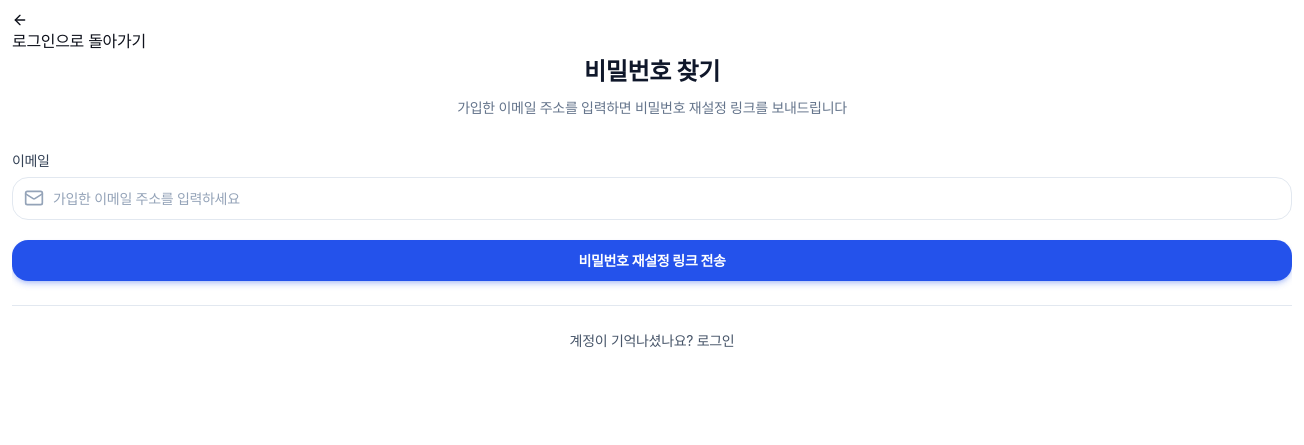
it: ForgotPasswordPage › 비밀번호 재설정 요청 실패 › 네트워크 오류 시 에러 메시지를 표시한다
The width and height of the screenshot is (1304, 445).
Type "test@example.com" into the field labelled "이메일". click: {"x": 652, "y": 198}
box: x1=12 y1=177 x2=1292 y2=220
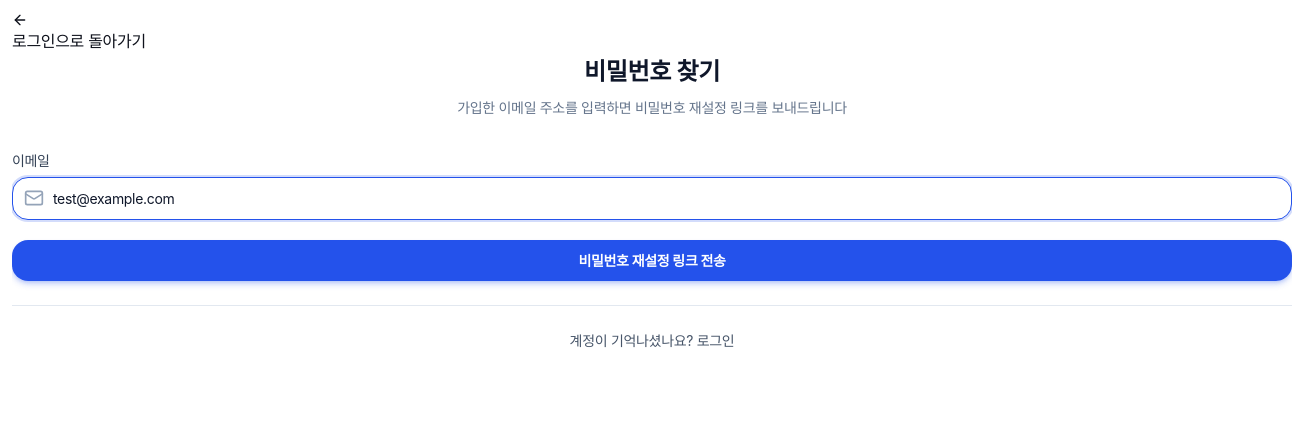
Click the button "비밀번호 재설정 링크 전송". click: {"x": 652, "y": 260}
box: x1=12 y1=240 x2=1292 y2=281
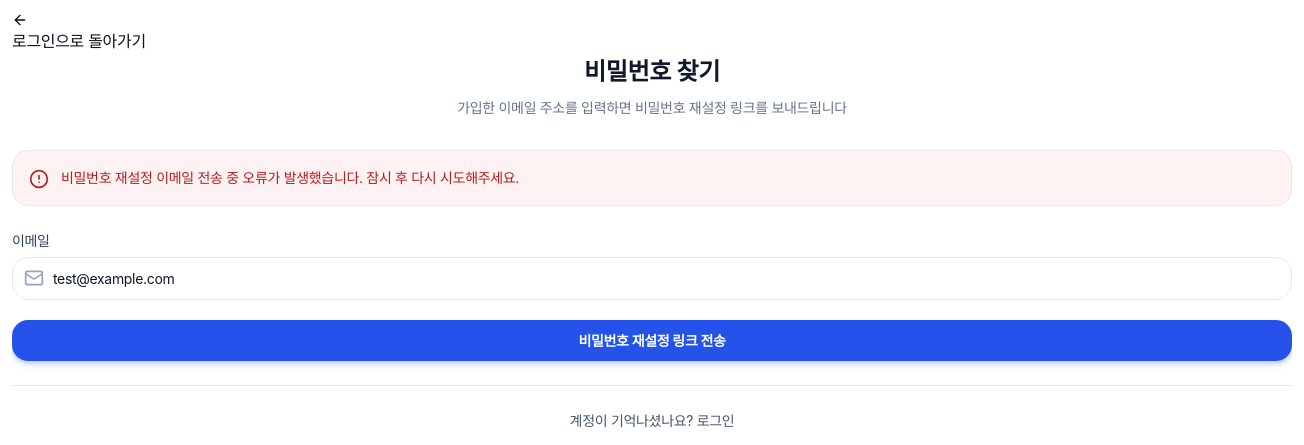
Expected: the message "비밀번호 재설정 이메일 전송 중 오류가 발생했습니다. 잠시 후 다시 시도해주세요." is shown, x1=12 y1=150 x2=1292 y2=206
Expected: the text "비밀번호 재설정 이메일 전송 중 오류가 발생했습니다. 잠시 후 다시 시도해주세요." is shown, x1=61 y1=167 x2=519 y2=188
